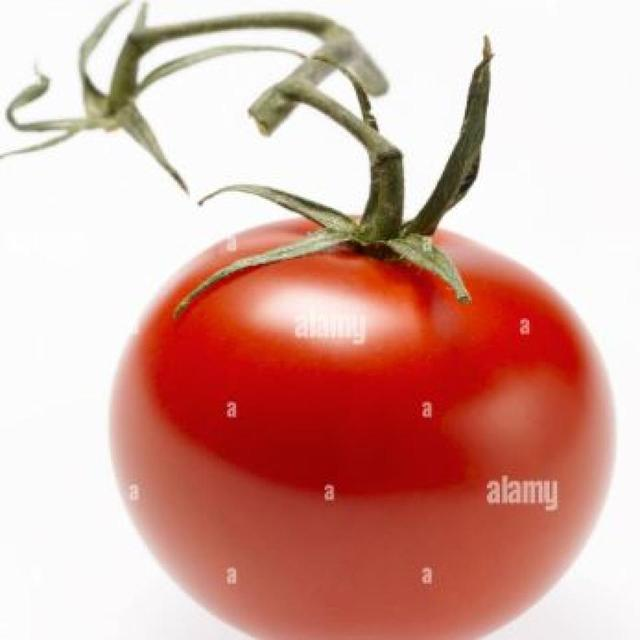Healthy Fruit: (75, 121, 427, 415)
